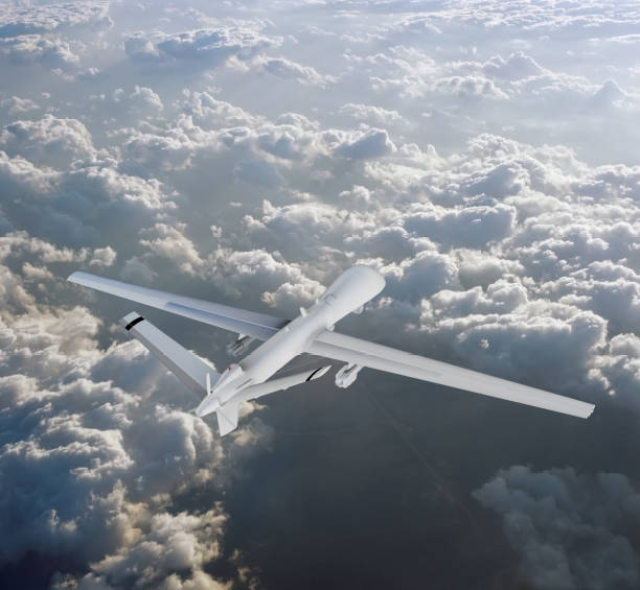military drone: (65, 263, 596, 436)
